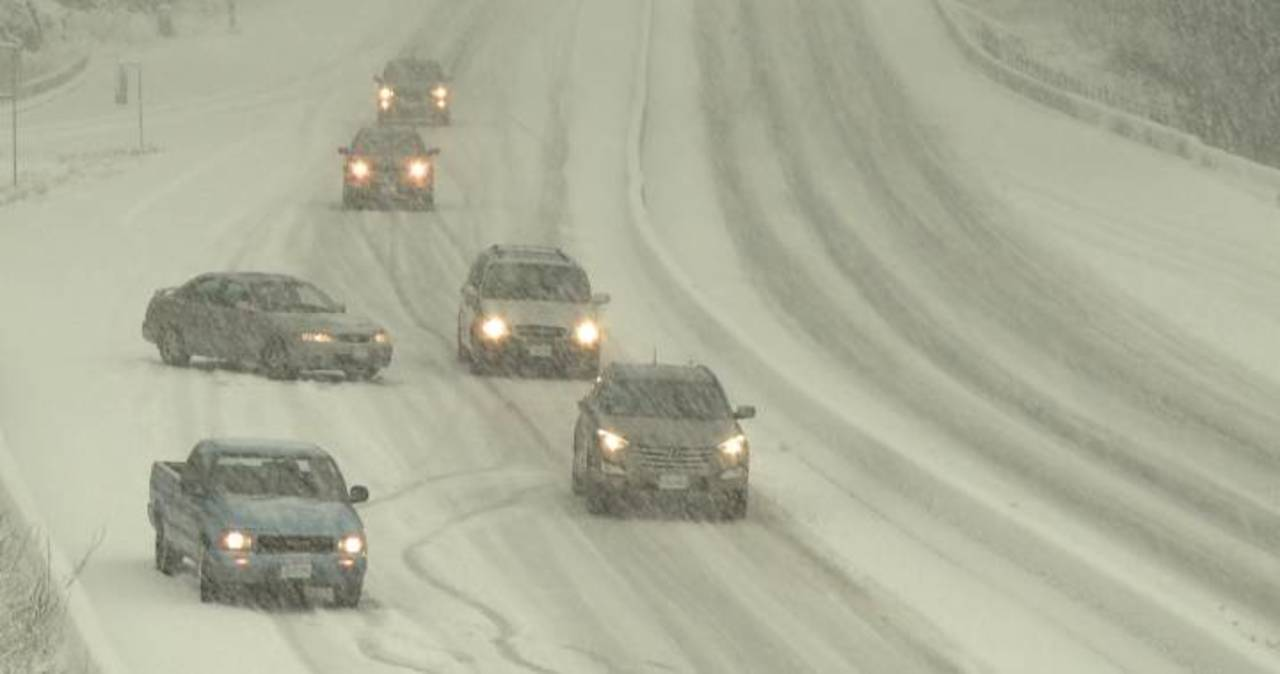car: (152, 435, 374, 613), (564, 355, 760, 523), (139, 271, 394, 383), (452, 242, 609, 378), (336, 120, 439, 218), (372, 51, 451, 123)
